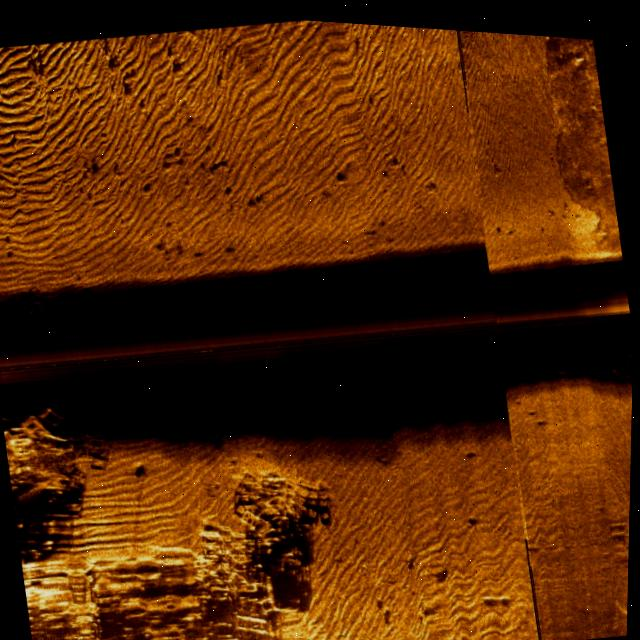artificial reef: (181, 458, 322, 588), (3, 403, 133, 527), (4, 283, 123, 340)
